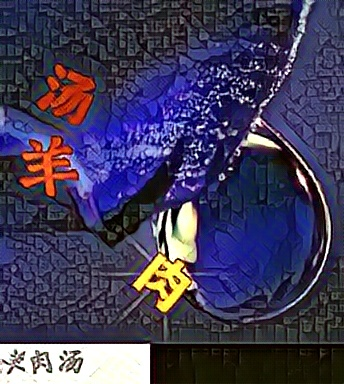C8E2: (130, 248, 194, 315)
CCC0: (34, 62, 98, 129)
D1F2: (18, 135, 82, 202)
